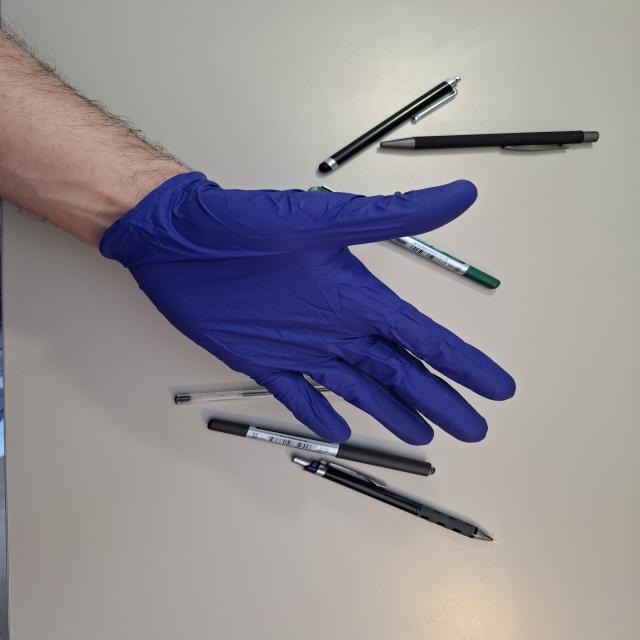glove_on: (91, 164, 523, 449)
